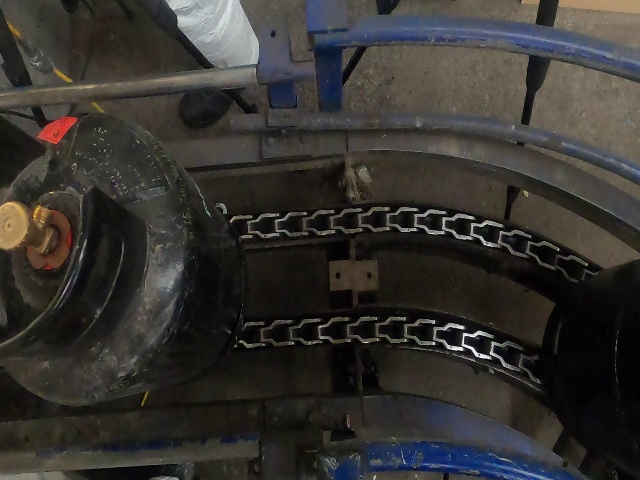gas_bottle: (0, 4, 634, 468)
